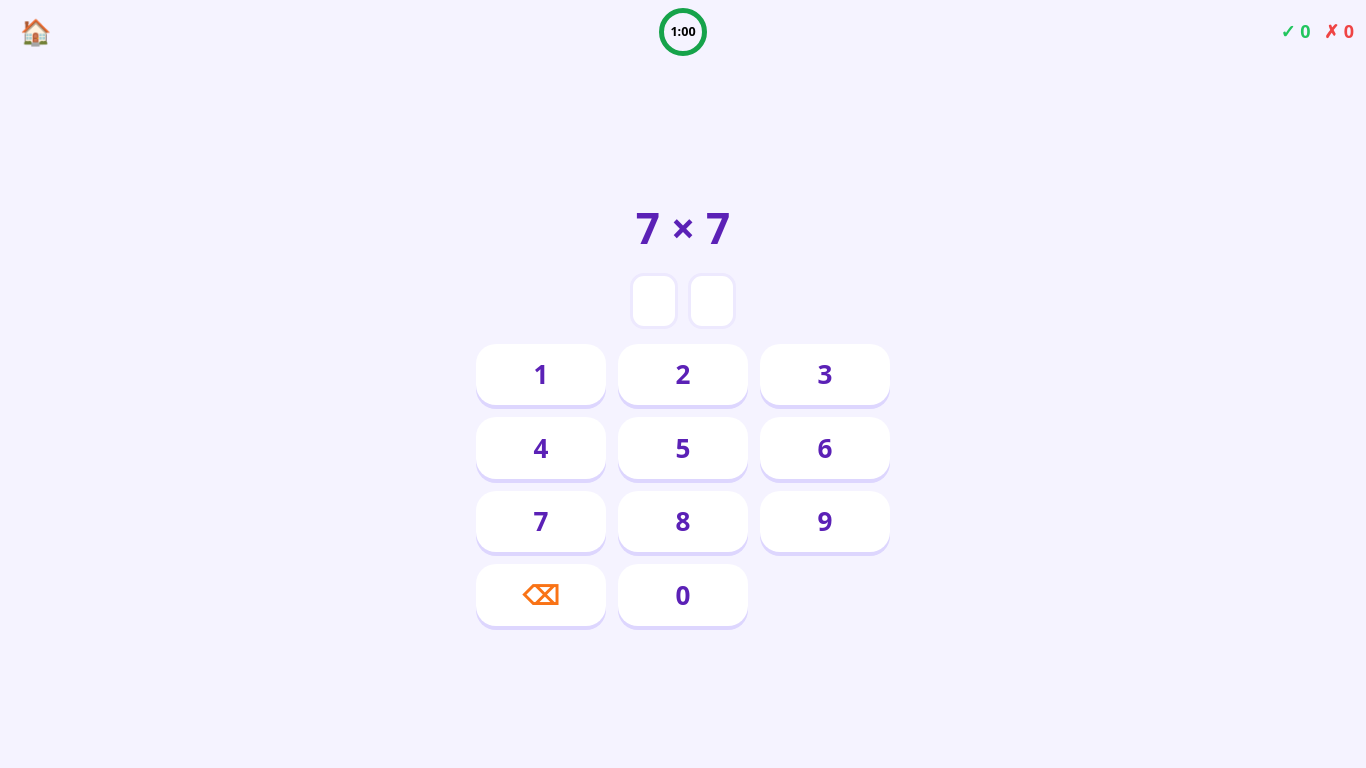
Test: GameScreen › shows encouragement after a wrong answer
Click the button named "Digit 4".
click(541, 448)  # box [476, 418, 606, 479]
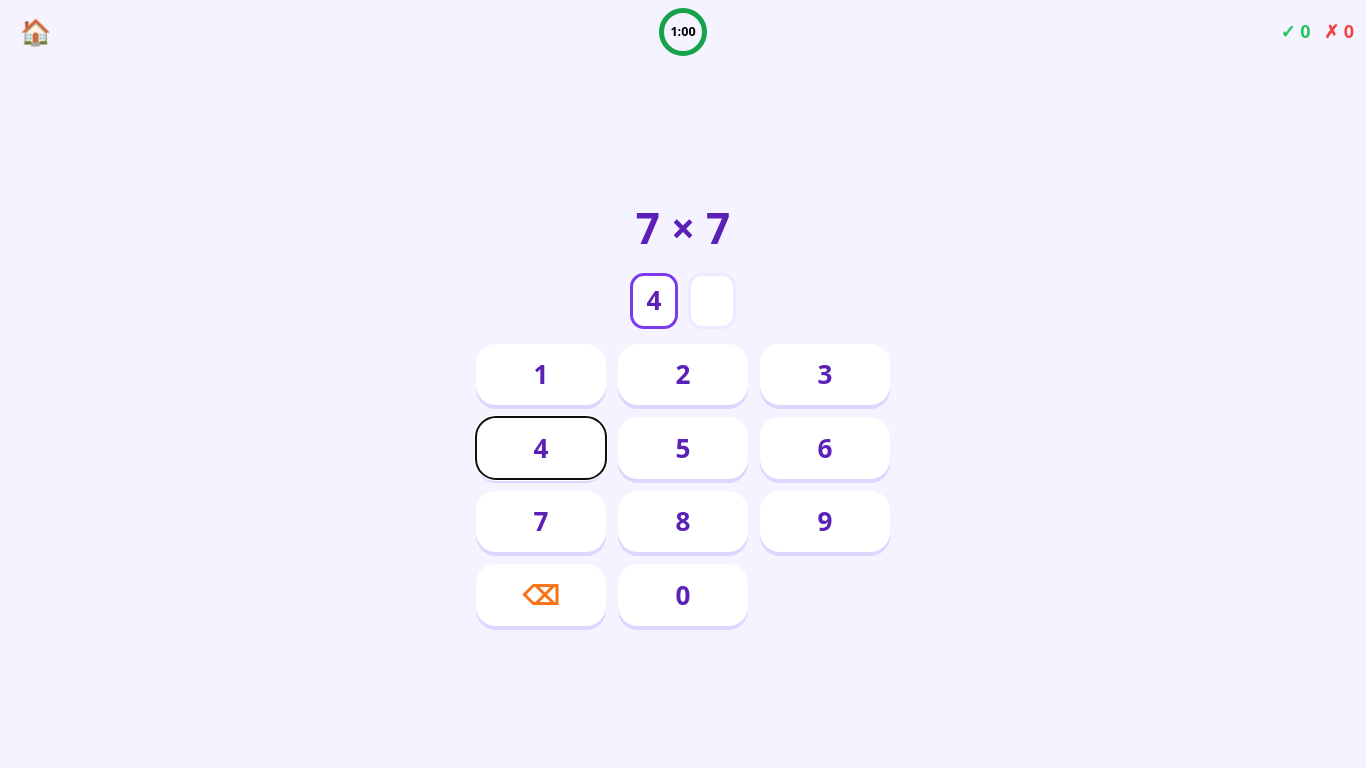
Click the button named "Digit 0".
click(683, 595)  # box [618, 564, 748, 626]
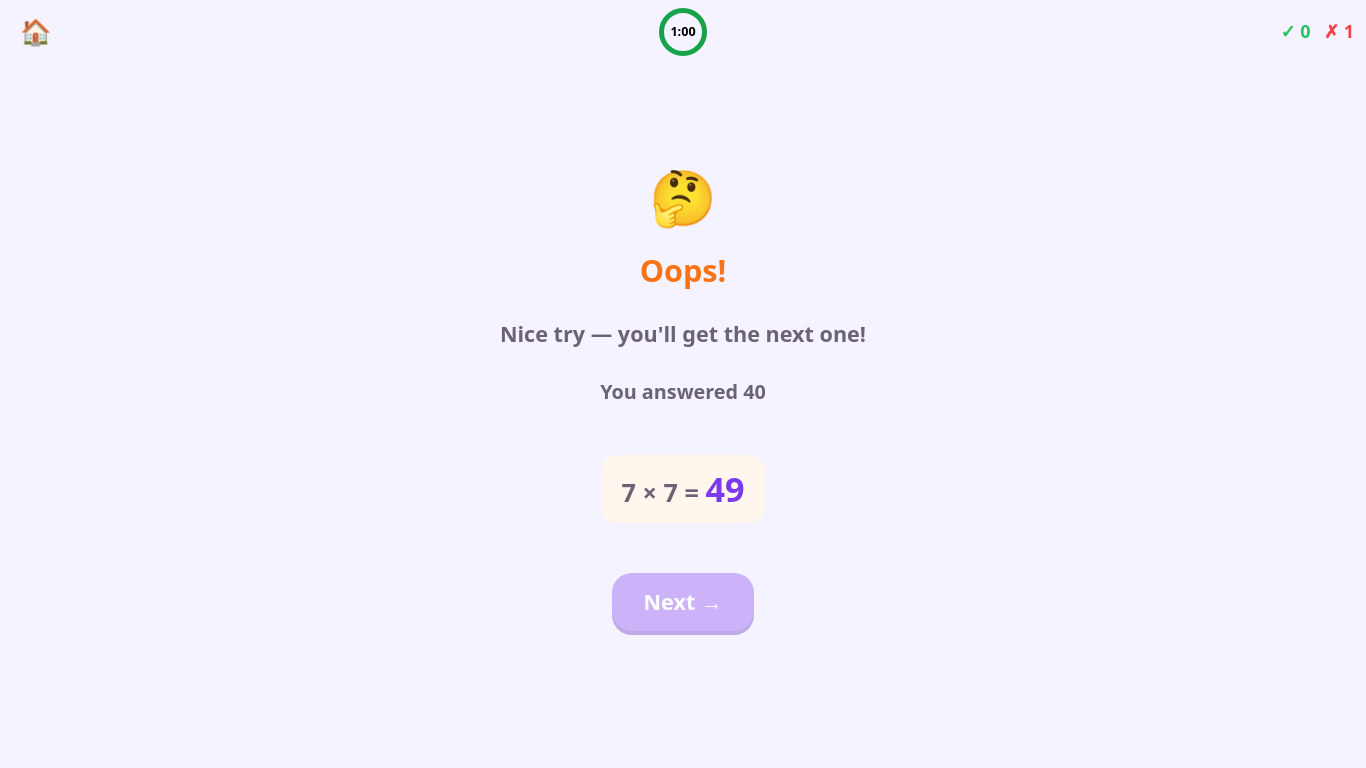
Result: the text "Oops!" is shown at [640, 249, 726, 291]
Click the button "Next →".
click(683, 602)  # box [612, 573, 754, 631]
Wait 3600 ms
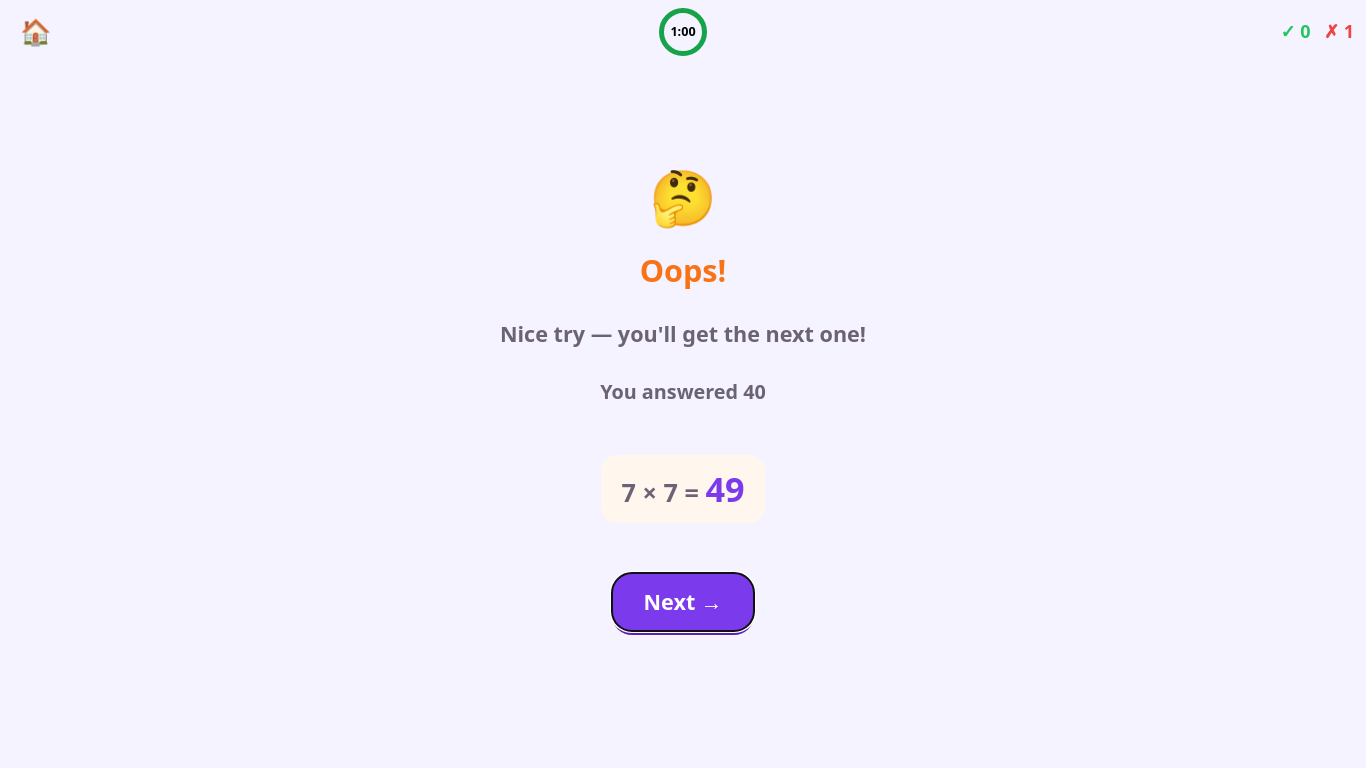
Result: the button "Next →" is enabled at [612, 573, 754, 631]
